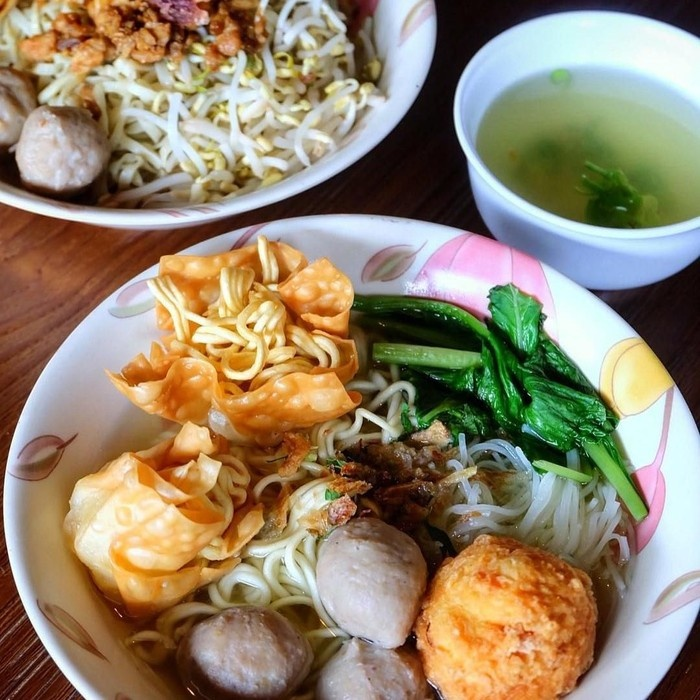bakso_malang: (63, 234, 647, 700)
